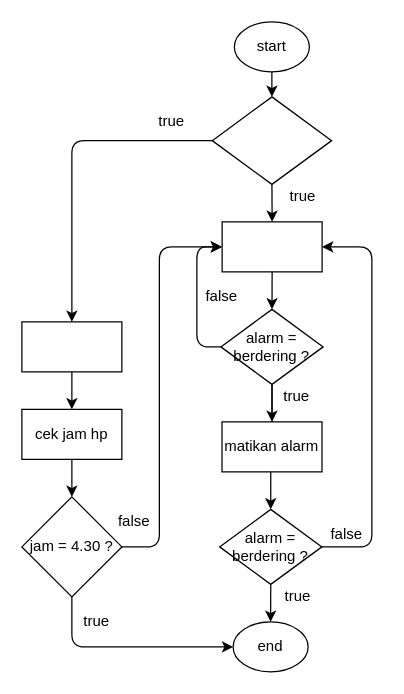
Some shapes in this 404 by 694 pixel diagram are drawn without their labels. Here are the shapes that lost their labels. From the top down, the centre of each, then its label:
the point at 271,140: tubuh = terbangun ?
the point at 271,246: lanjut tidur di kasur
the point at 71,346: ambil hp di tempatnya
